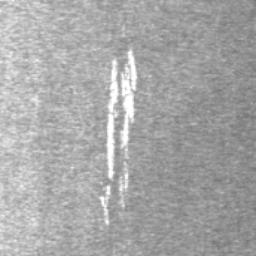White rust: (107, 47, 138, 180), (119, 160, 129, 208), (98, 196, 109, 225), (105, 183, 111, 196)
